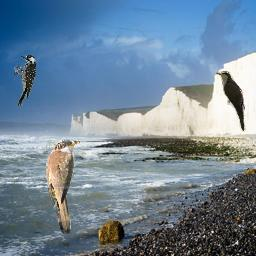Cuckoo: (46, 140, 80, 234), (216, 71, 246, 132)
Woodpecker: (14, 55, 36, 106)
